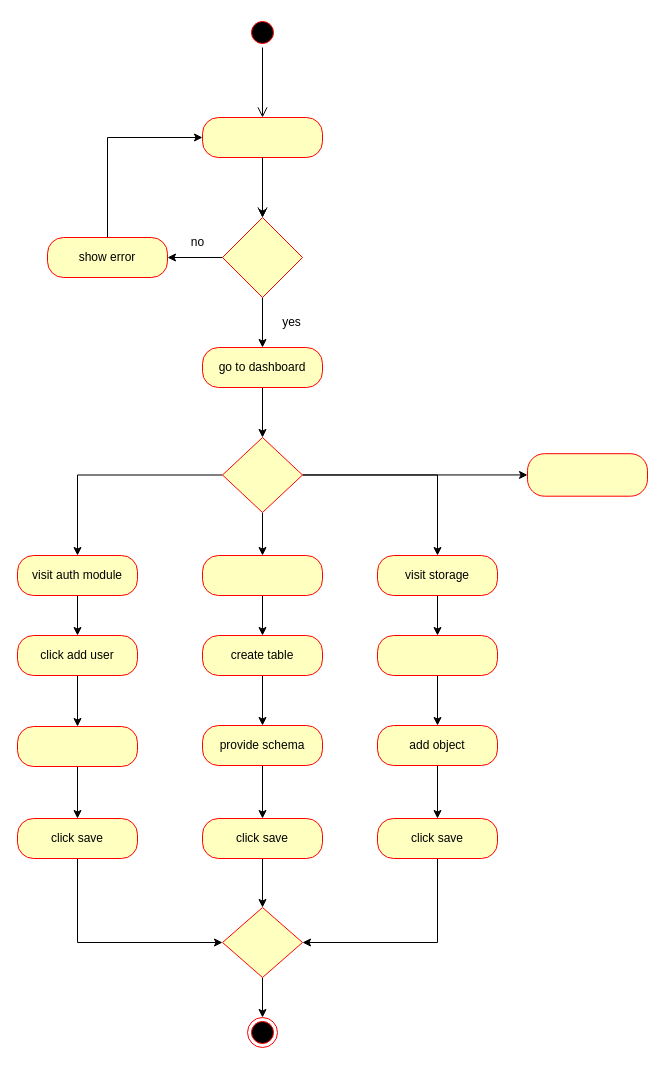
This 665x1065 diagram has some shape labels left out. The shapes that lost their labels are listed below. From the top down, each one's centre as x and y in pixels, then its label:
pixel 262 137: User Login
pixel 262 257: login success ?
pixel 587 474: logout
pixel 262 575: visit db module
pixel 437 655: create bucket
pixel 77 746: enter credentials
